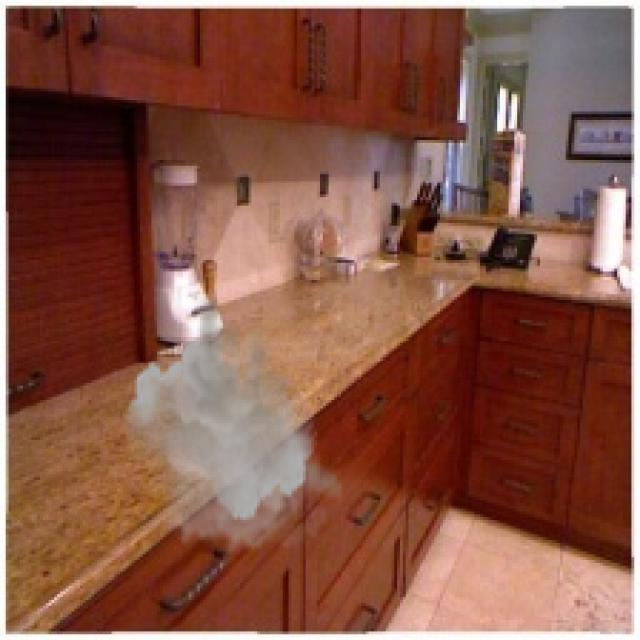Smoke: (123, 286, 346, 558)
